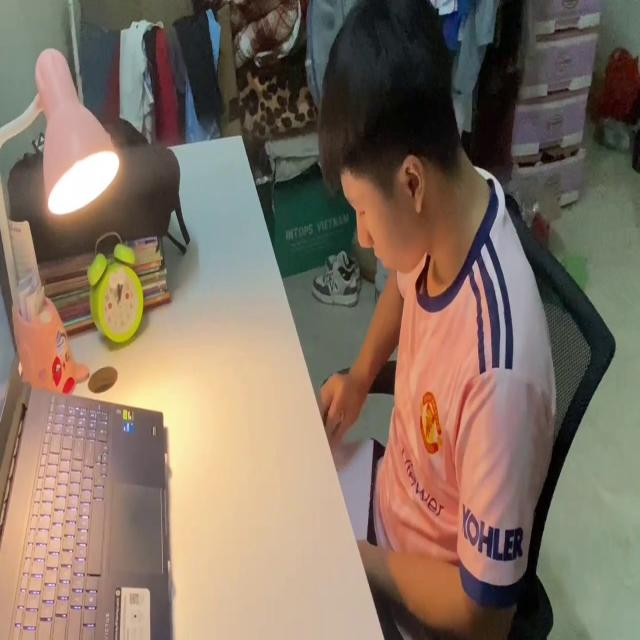book: (324, 433, 378, 552)
laptop: (0, 277, 175, 640)
student: (318, 46, 558, 640)
